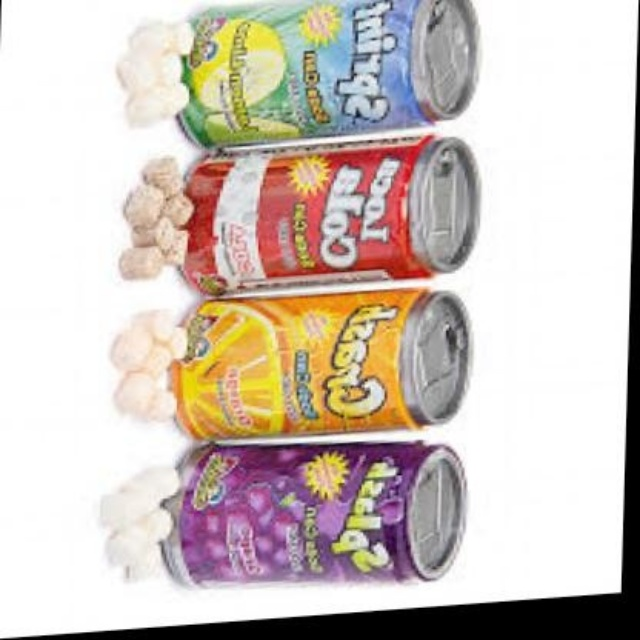trash: (117, 0, 477, 146), (183, 134, 478, 294), (172, 288, 469, 438), (180, 0, 475, 146), (162, 442, 465, 583)
